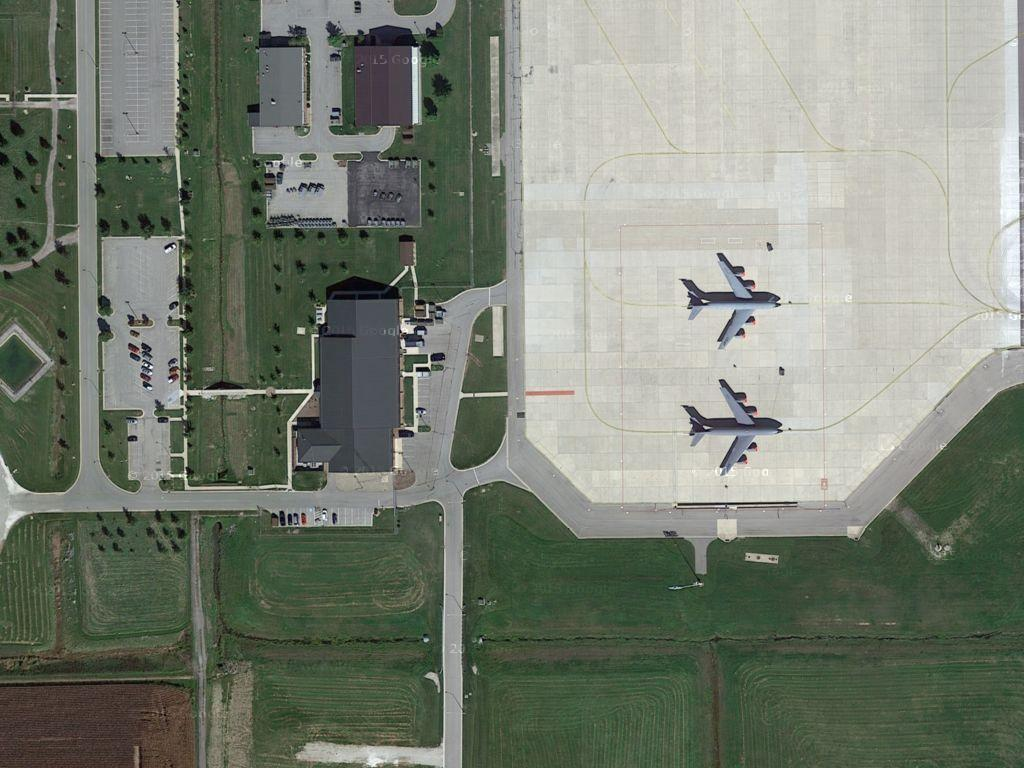KC-135: (679, 376, 792, 478), (677, 255, 790, 353)
